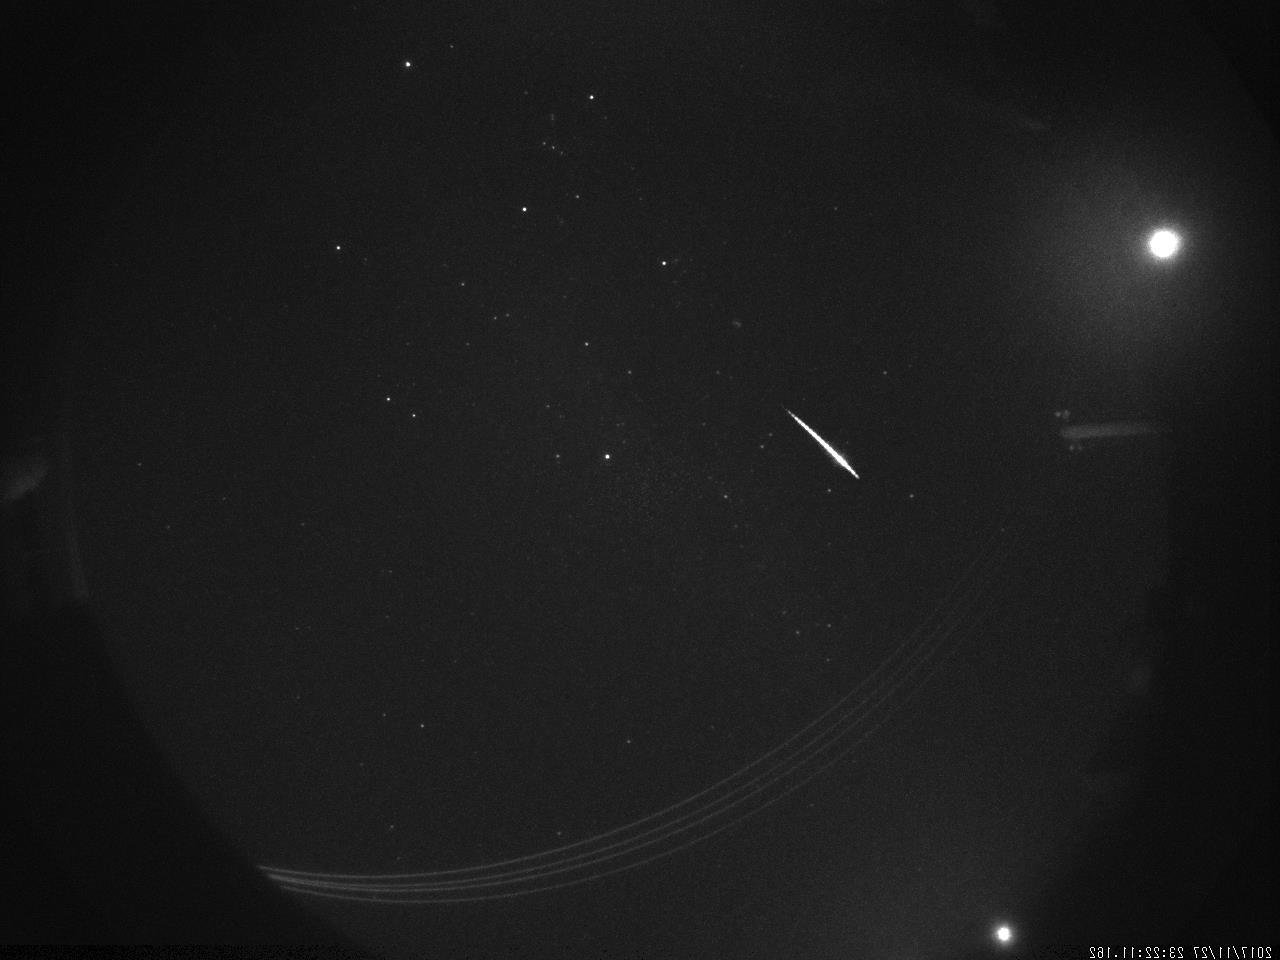meteor: (776, 401, 868, 484)
